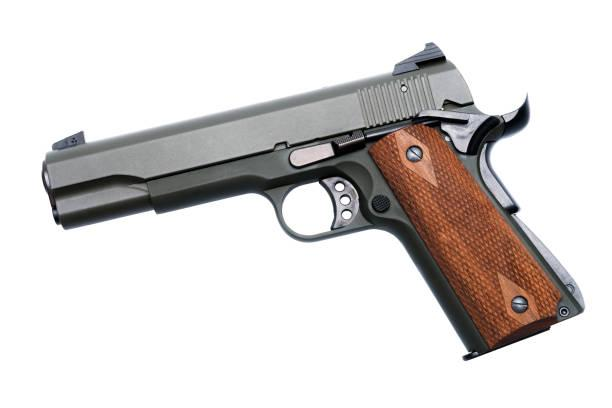weapon: (39, 39, 590, 362)
